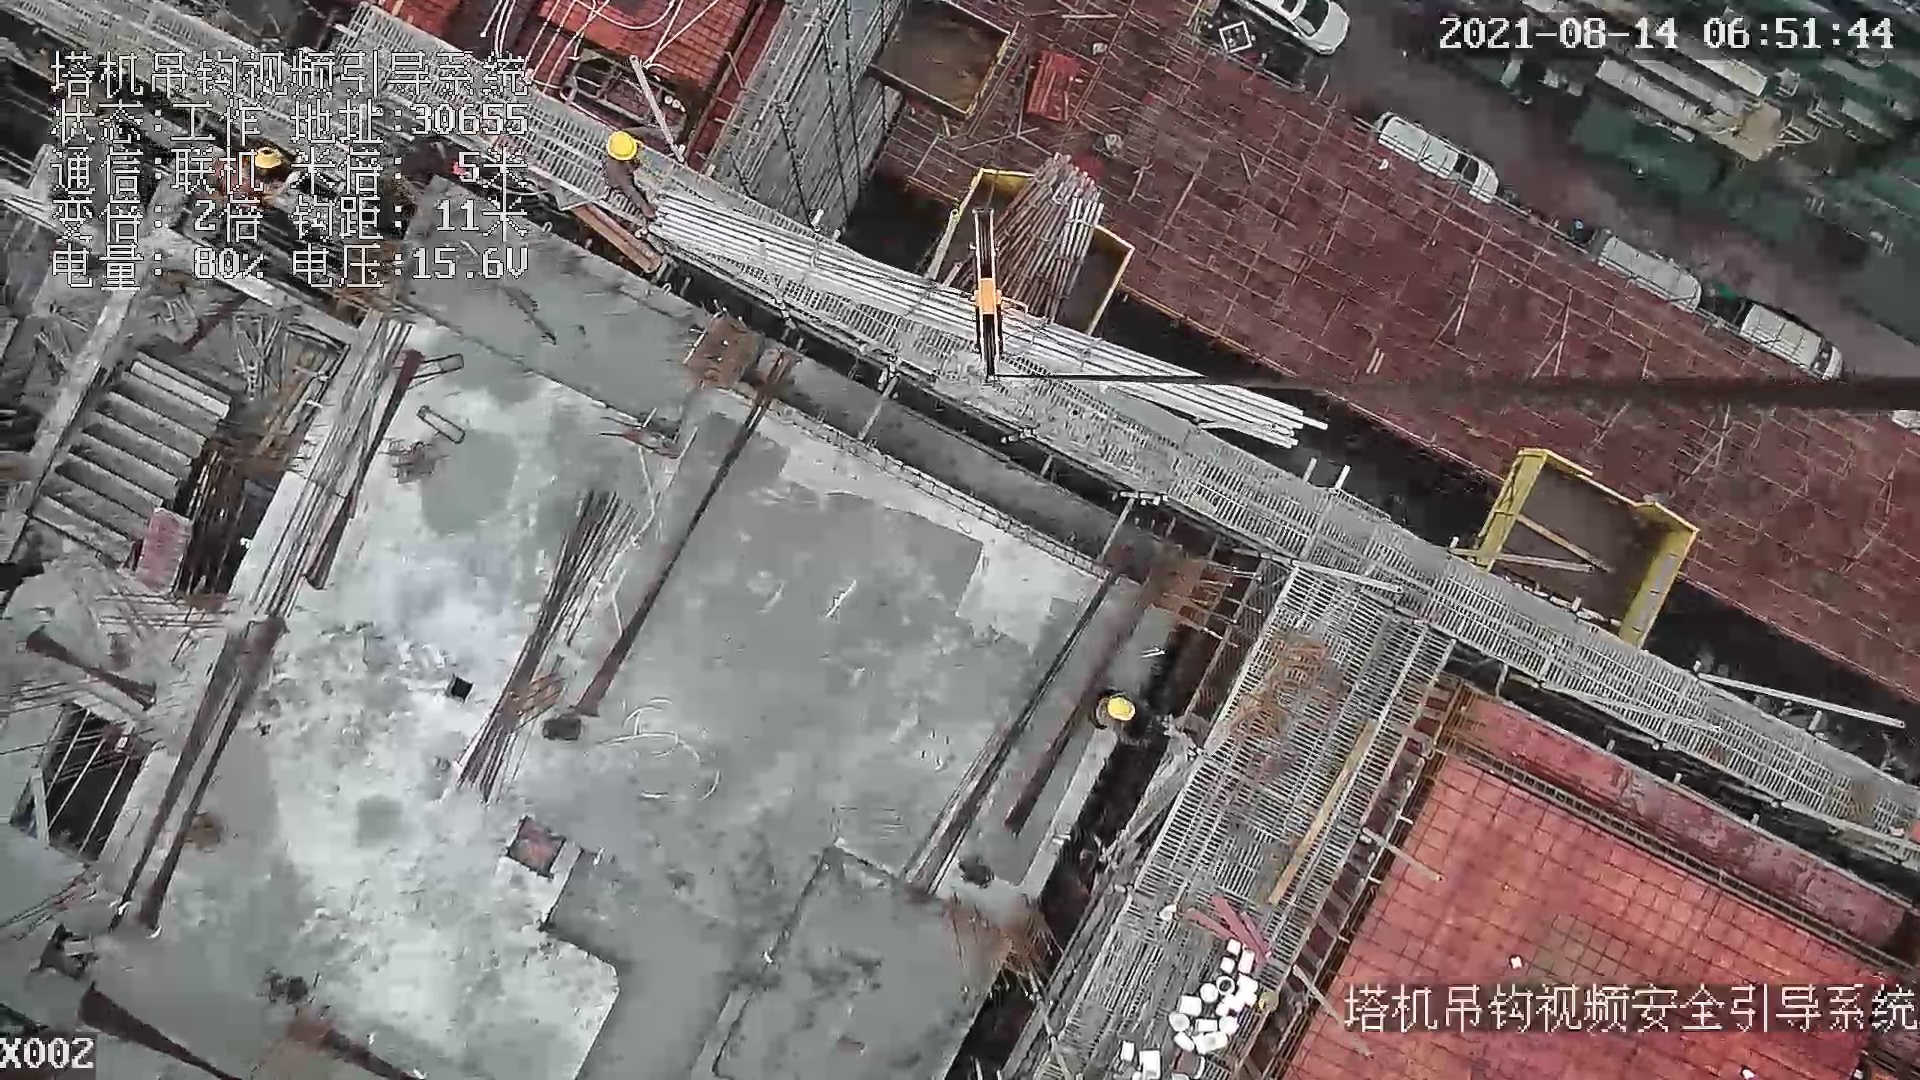helmet: (605, 131, 639, 162), (1105, 696, 1137, 722)
hook: (963, 208, 1033, 391)
person: (596, 130, 664, 224), (1088, 683, 1173, 749)
rebar: (654, 189, 1327, 450), (461, 492, 648, 800)
scaffold: (1000, 154, 1102, 326)
